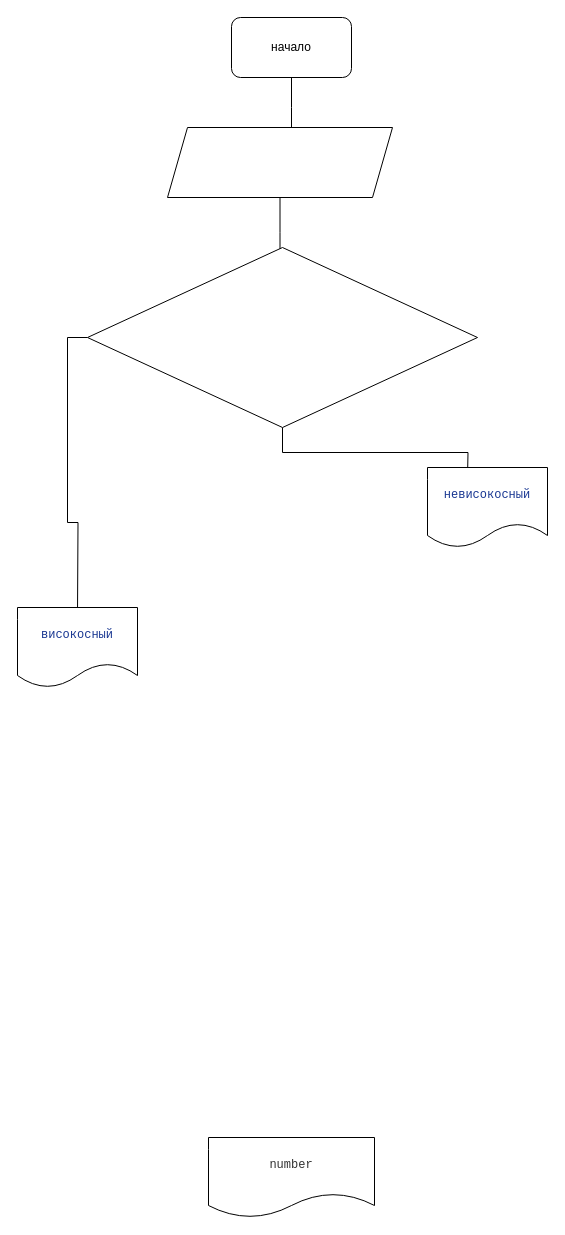
This 565x1235 diagram has some shape labels left out. Here are the shapes that lost their labels. From the top down, the centre of each, then its label:
At pixel 279 162: "year".
At pixel 282 337: "year % 4 == 0 and year % 100 != 0 or year % 400 == 0".
